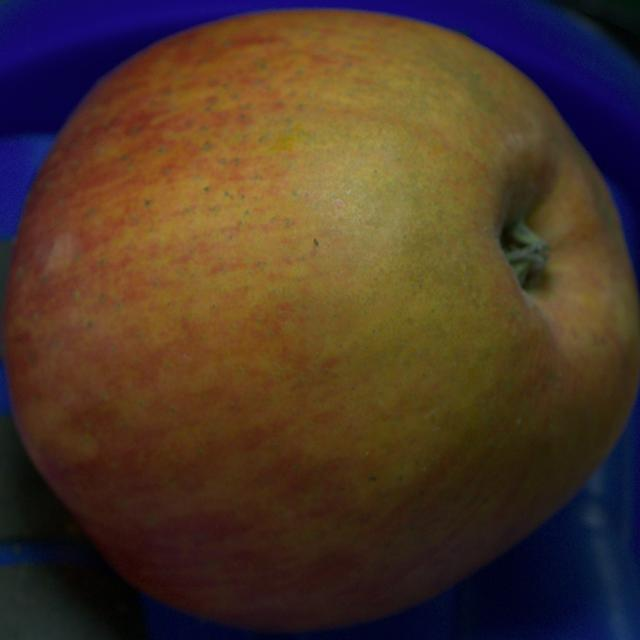apple: (2, 11, 639, 632)
